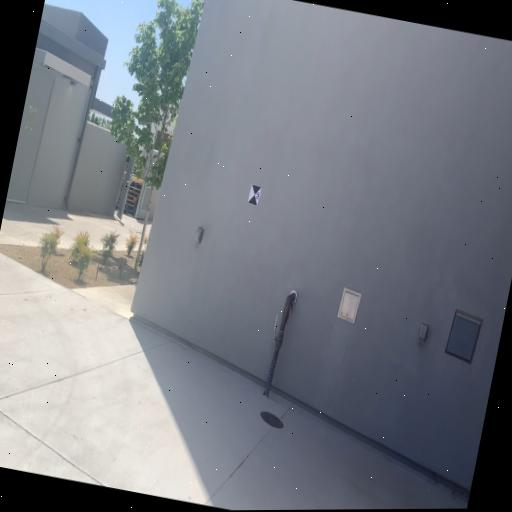target5: (247, 182, 262, 207)
